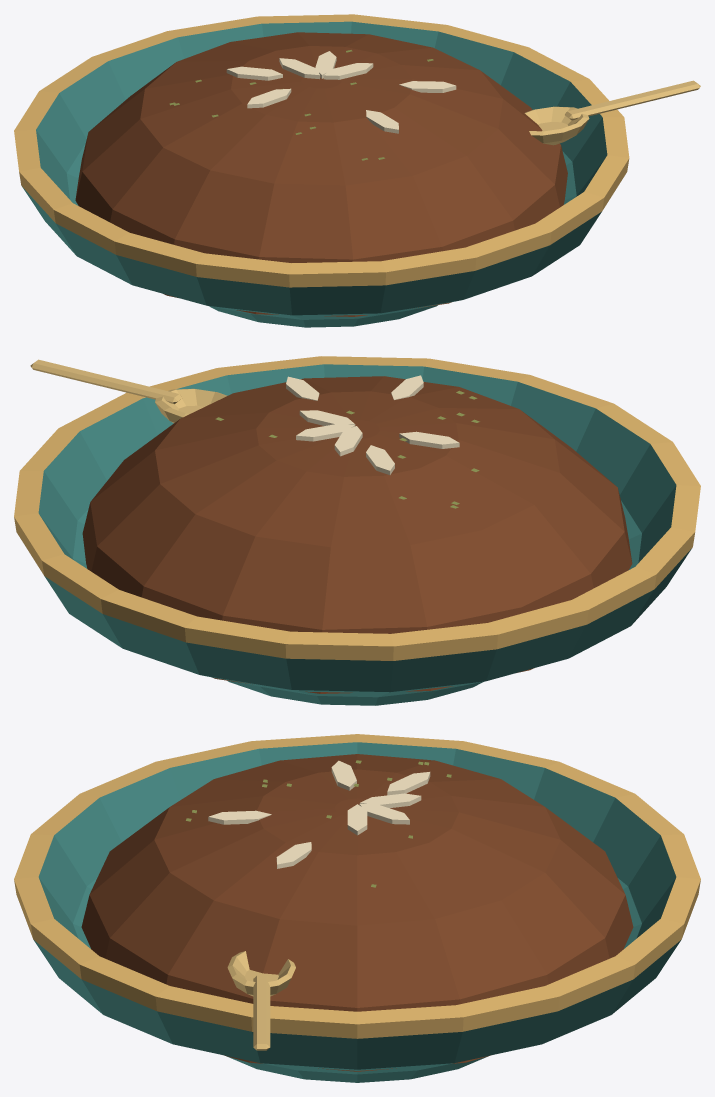
Rendered from omani-halwa.glb.
3 renders of one model, top to bottom at view 1: azimuth 30°, elevation 25°; view 2: azimuth 150°, elevation 25°; view 3: azimuth 270°, elevation 25°, orthographic. The views are drawn at different scales.
Visible parts, largest first — view 1: omani-halwa; view 2: omani-halwa; view 3: omani-halwa.
Part boxes in pixels (x1,y1,x2,y2): omani-halwa: [14, 14, 700, 327]; omani-halwa: [14, 356, 700, 705]; omani-halwa: [14, 734, 700, 1082].
Size of the model in its own units: 0.3145 by 0.0932 by 0.28.
